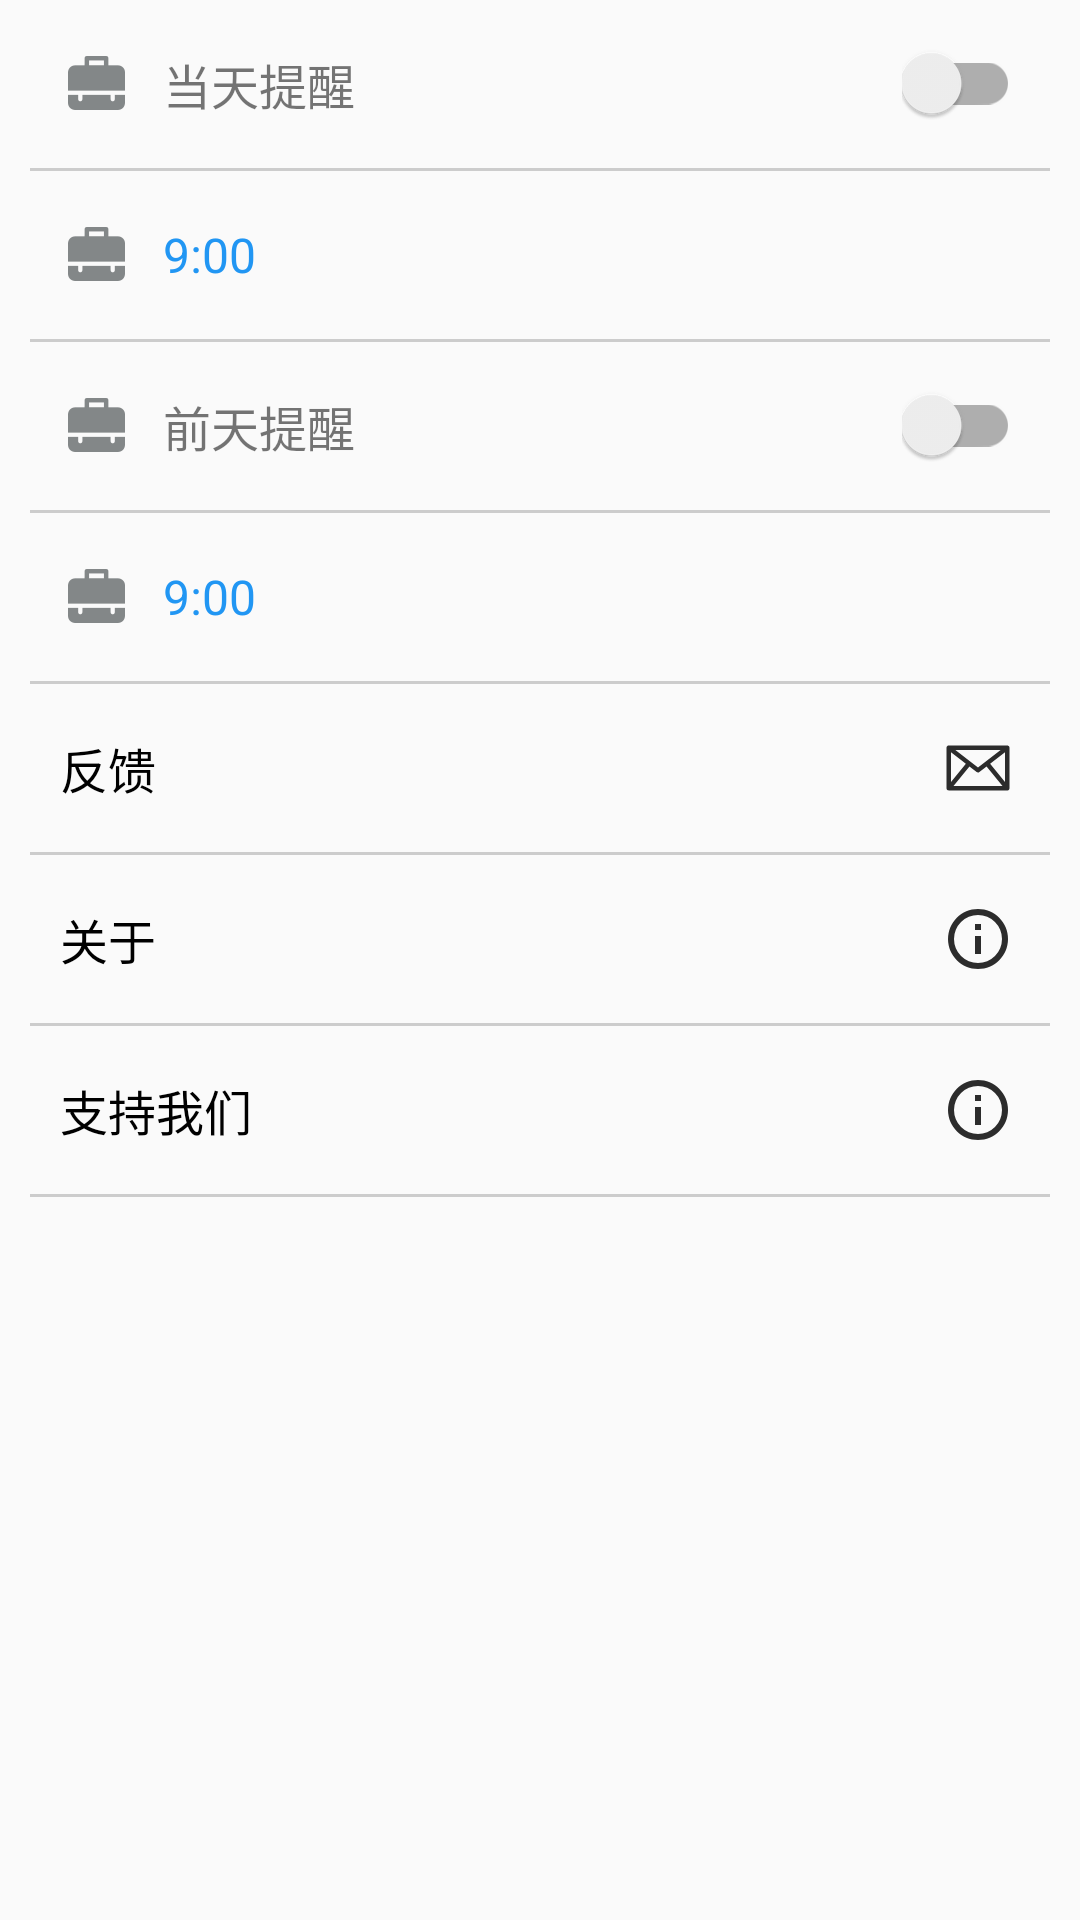

Named icons in this screenshot (1080 × 1920) and their centers, point (x, y):
about: point (978, 939), point (978, 1110)
feedback: point (978, 768)
